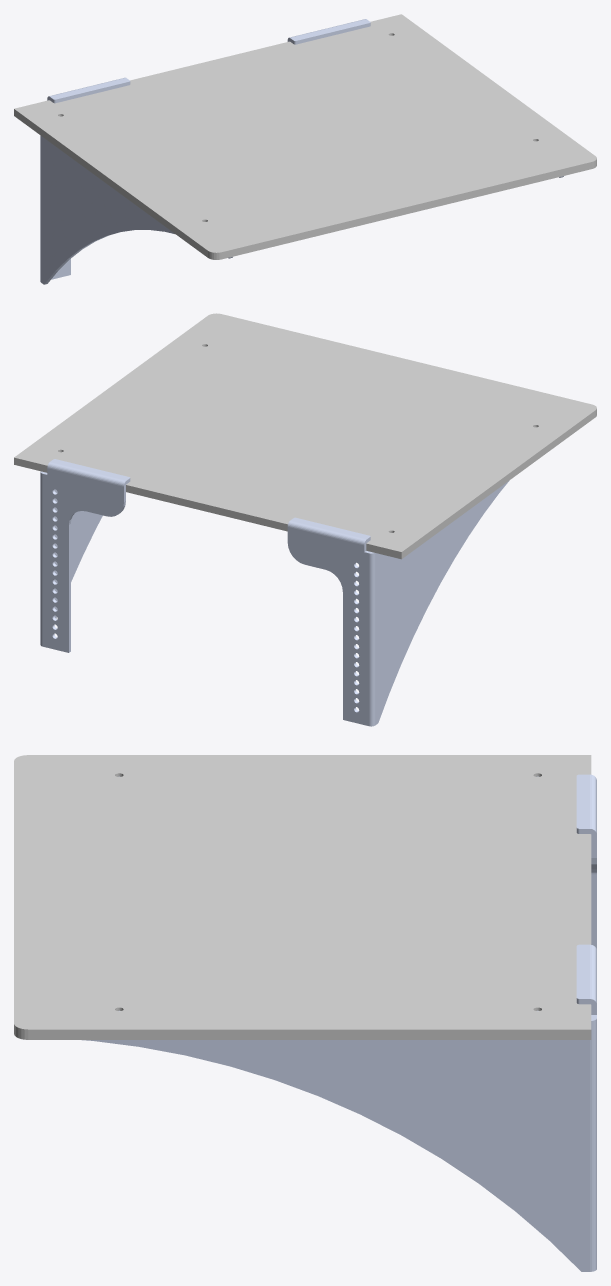
File: workplane complex.dae
3 views of the same model, one above another, from view 1: azimuth 30°, elevation 25°; view 2: azimuth 150°, elevation 25°; view 3: azimuth 270°, elevation 25° (orthographic). The views are drawn at different scales.
Visible parts, largest first — view 1: Component (×3); view 2: Component (×3); view 3: Component (×3).
Part boxes in pixels (left/top/right/bottom): Component (×3): left=14, top=14, right=596, bottom=284; Component (×3): left=14, top=313, right=596, bottom=726; Component (×3): left=14, top=755, right=596, bottom=1271.
Size of the model in its own units: 17.72 by 15.91 by 8.03.
